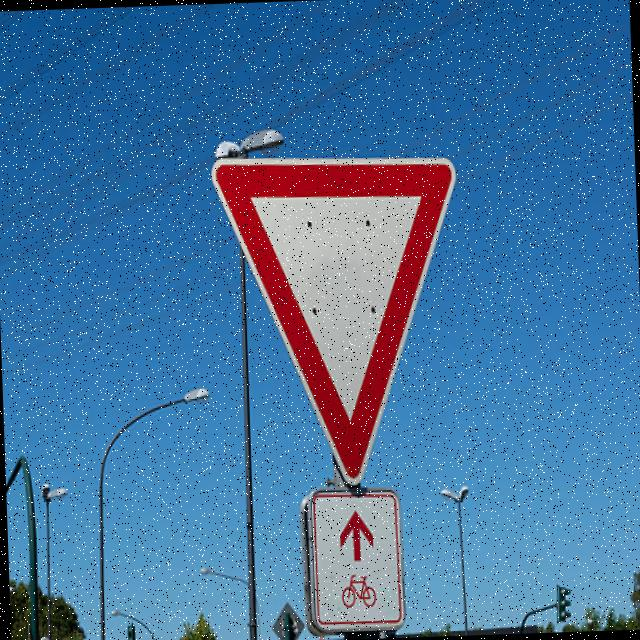give_way: (205, 136, 470, 490)
